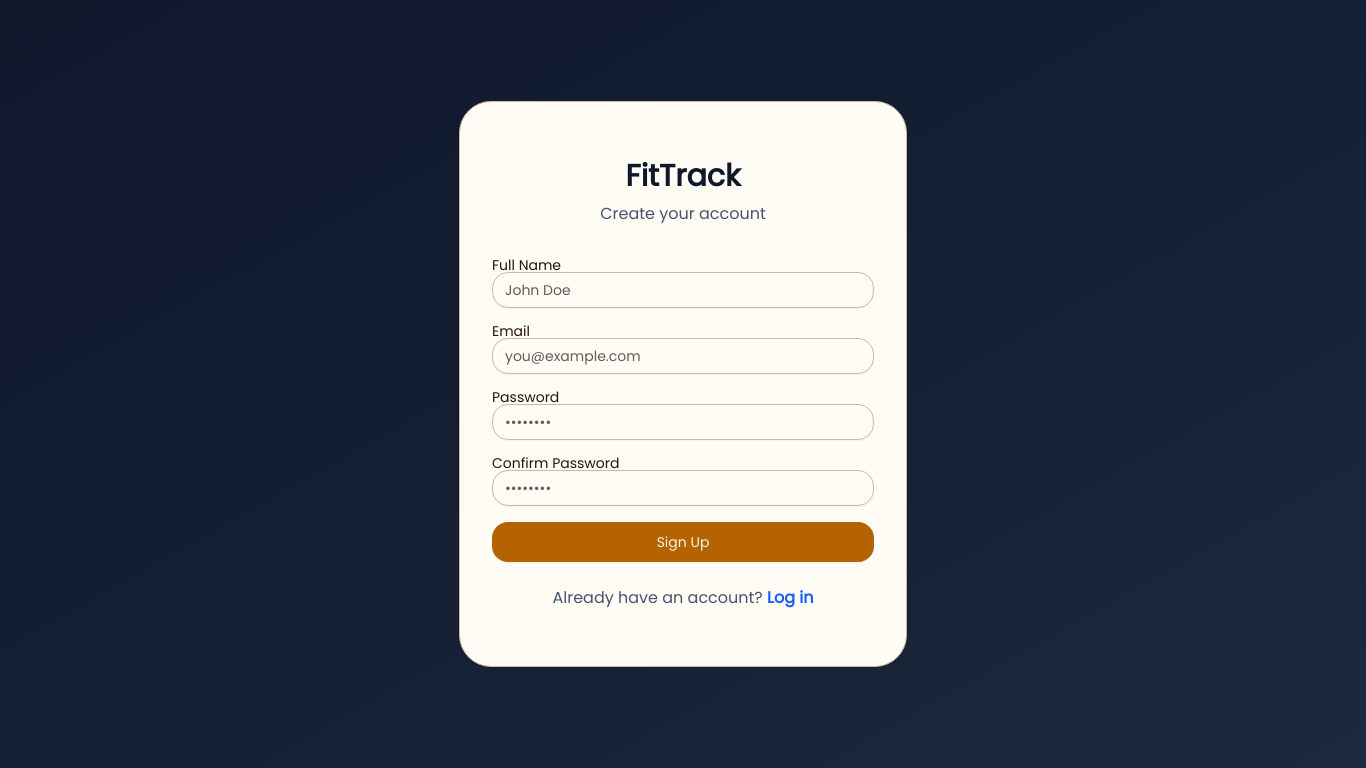
Test: SignupView › displays error when passwords do not match
The width and height of the screenshot is (1366, 768).
Type "Test User" into the field labelled "Full Name" at [683, 290], box [492,272,874,308]
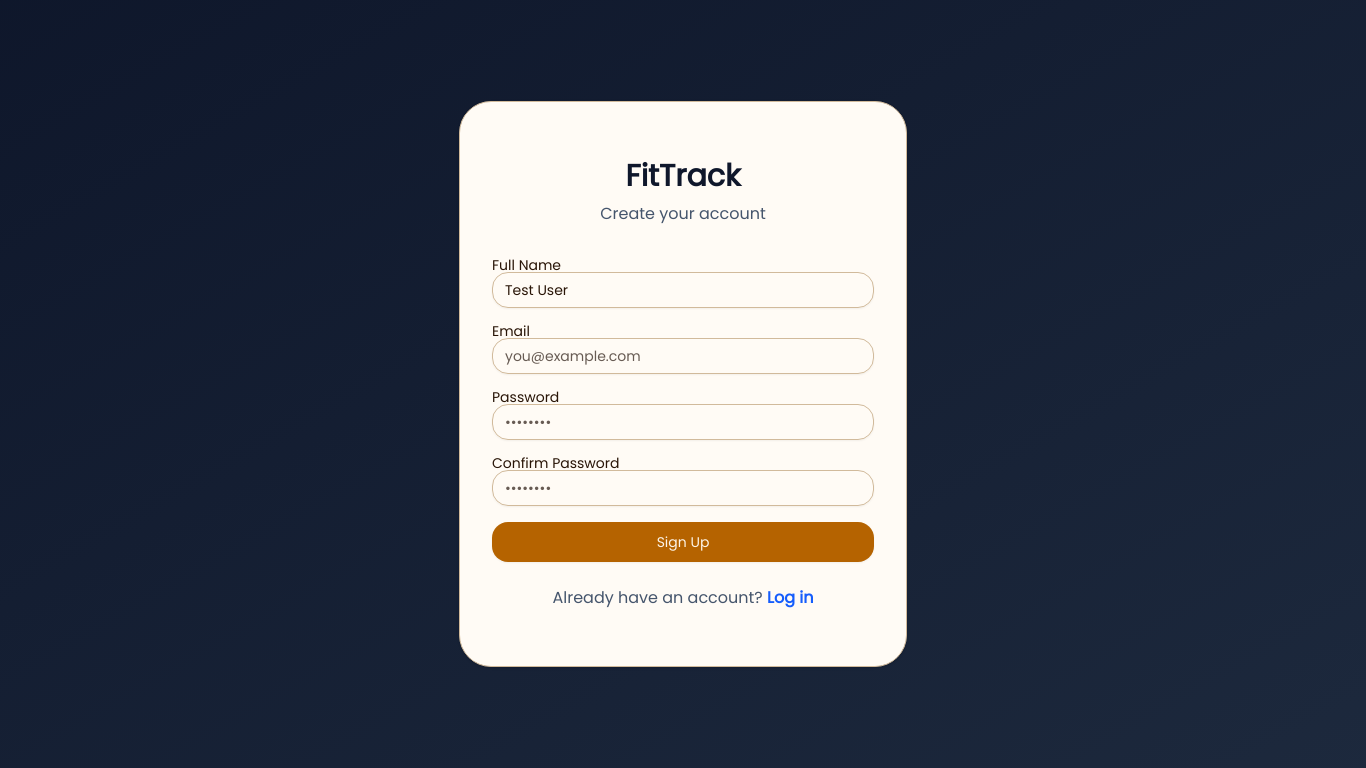
Type "test@example.com" into the field labelled "Email" at [683, 356], box [492,338,874,374]
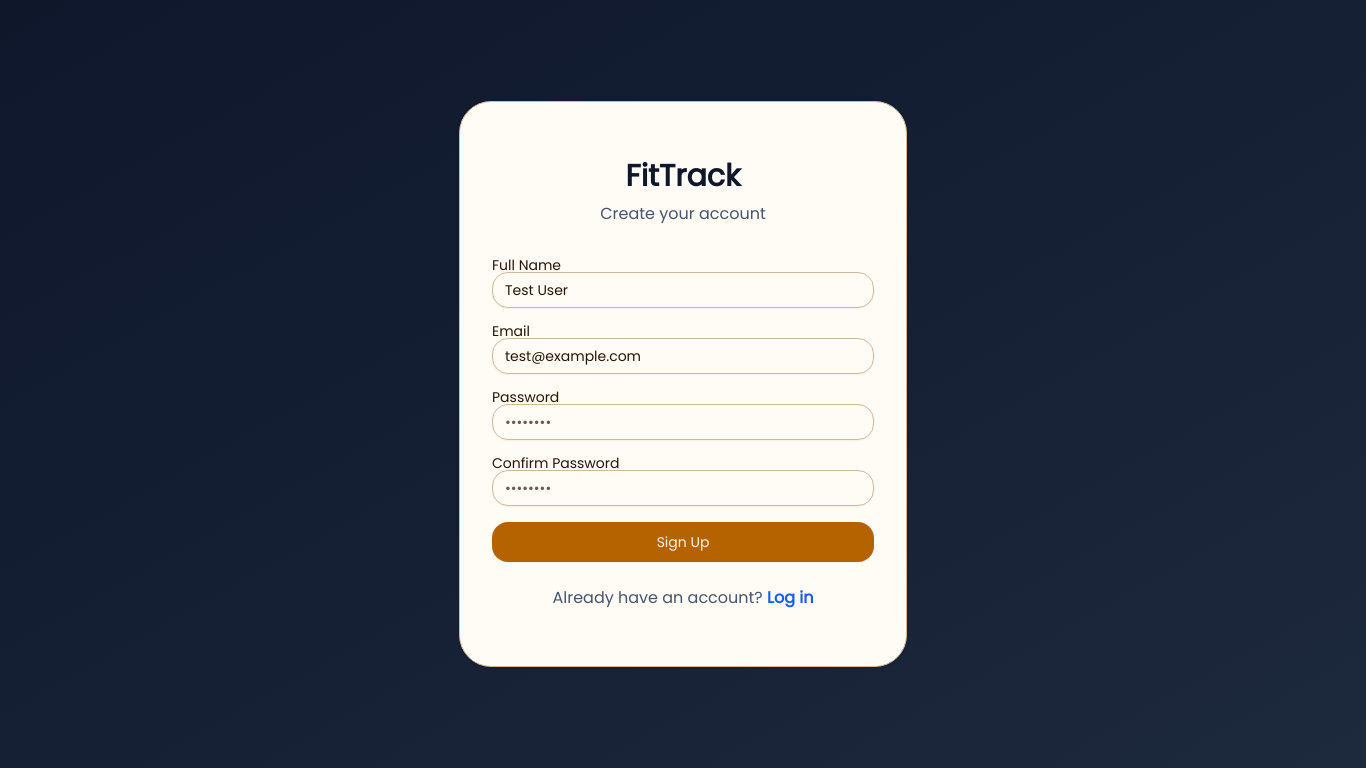
Type "password123" into the password field labelled "Password" at [683, 422], box [492,404,874,440]
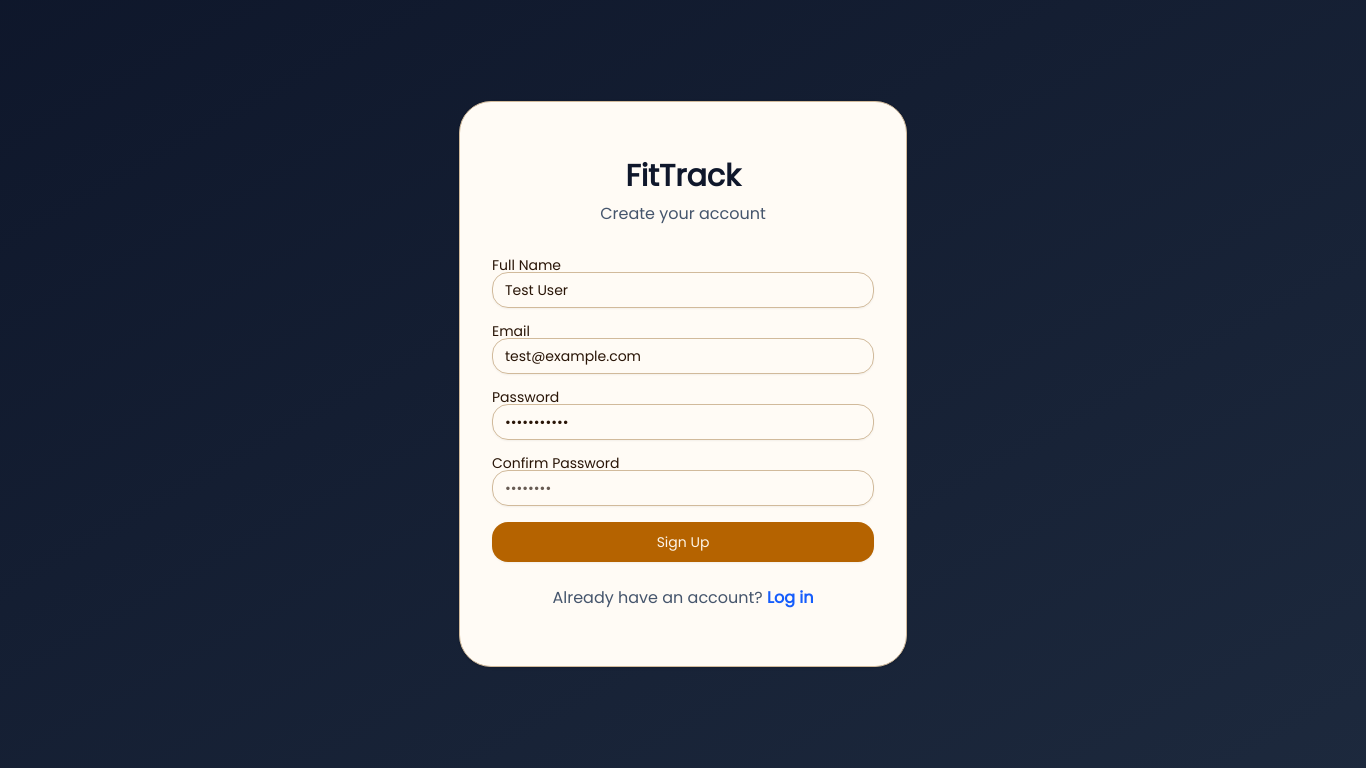
Type "differentpassword" into the password field labelled "Confirm Password" at [683, 488], box [492,470,874,506]
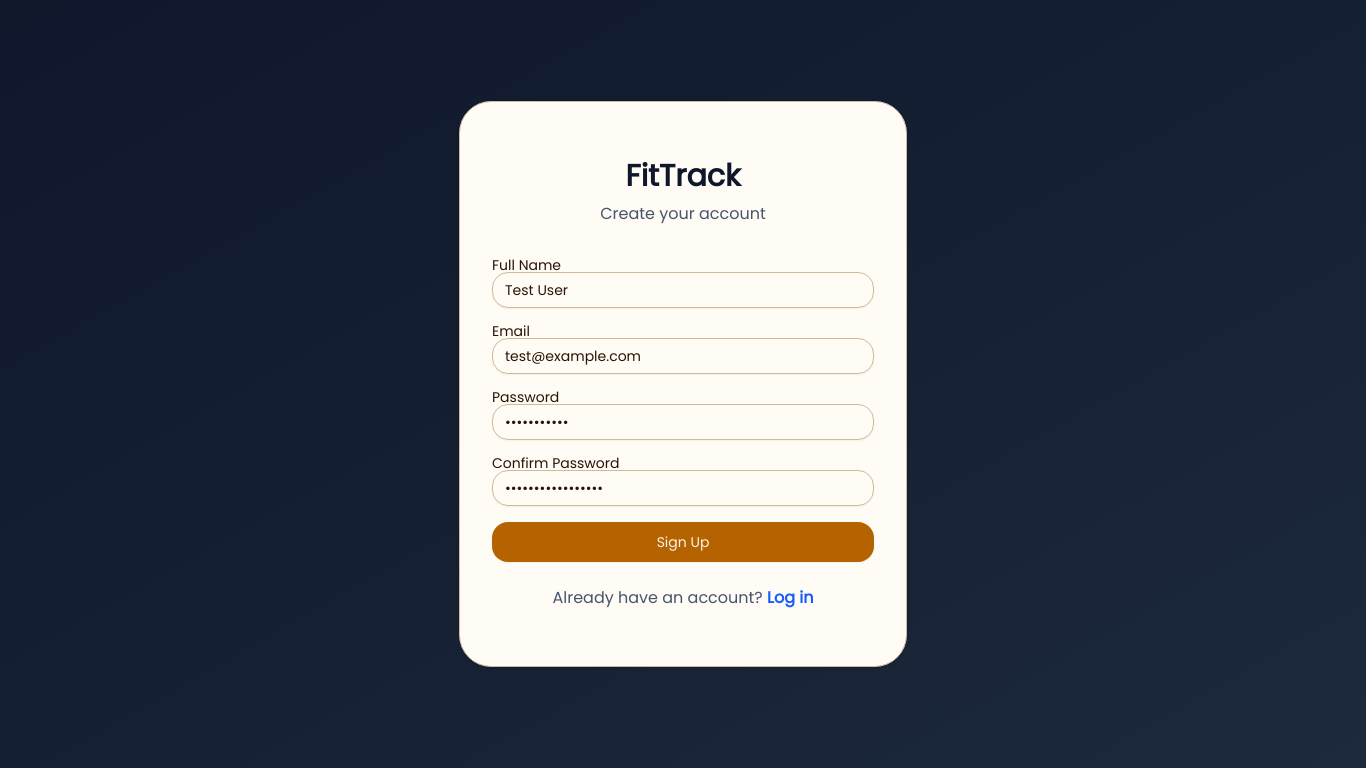
Click the button "Sign Up" at [683, 542], box [492,522,874,562]
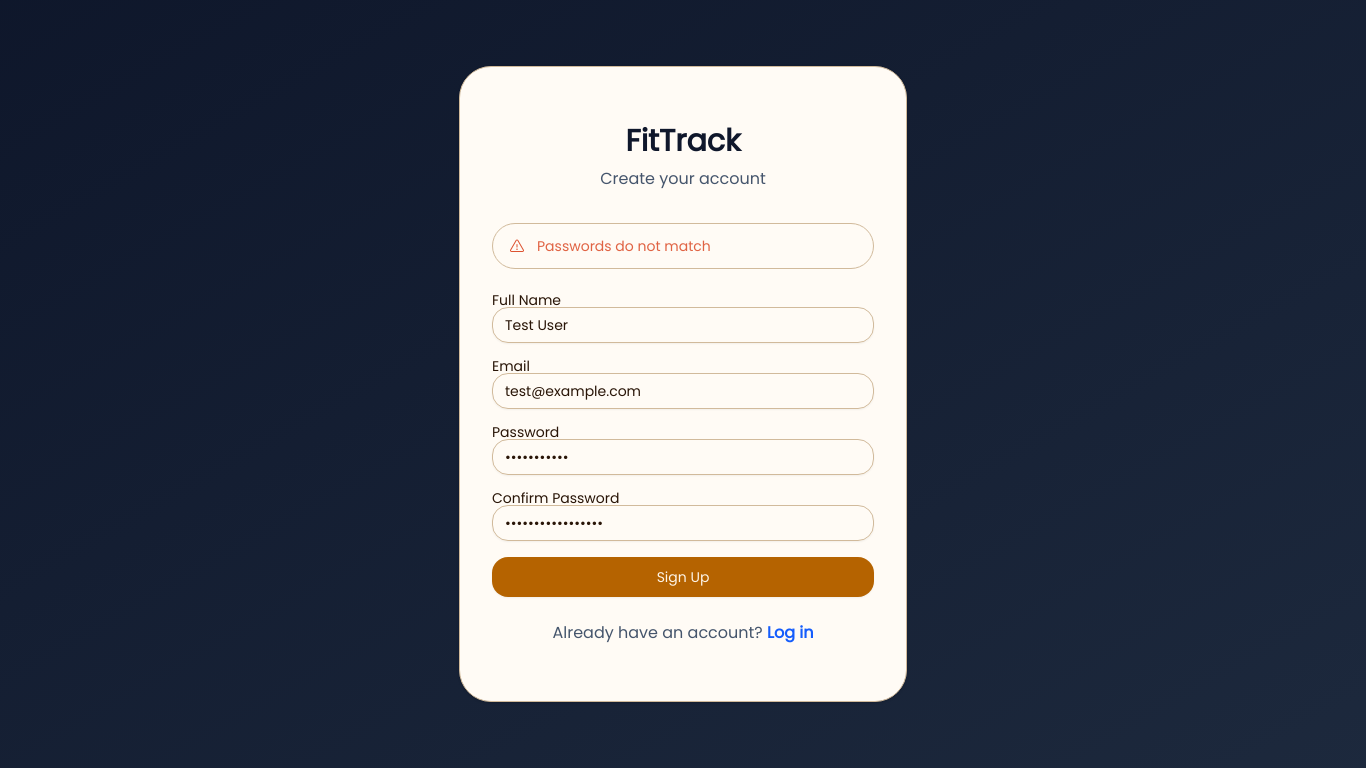
Expected: the text "Passwords do not match" is shown, [537,236,711,256]
